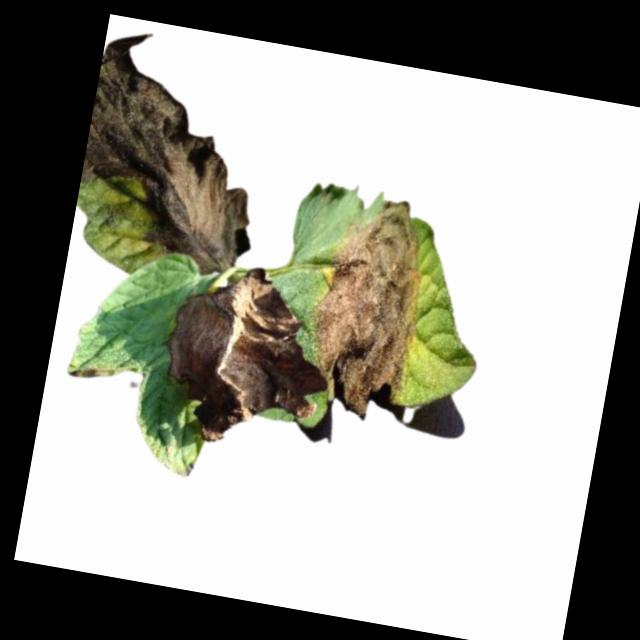Late_blight: (70, 27, 276, 278), (154, 254, 338, 455), (294, 186, 438, 425)
